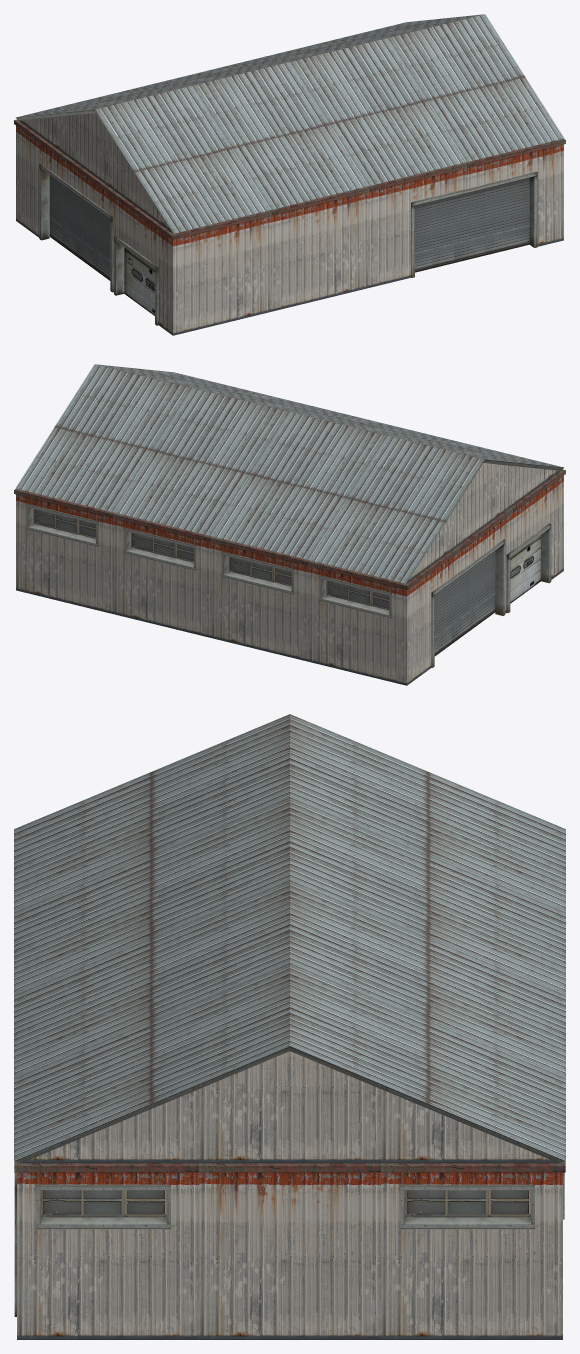
File: Hangar_v2_5.FBX
The picture shows the model from 3 angles, top to bottom: view 1: azimuth 30°, elevation 25°; view 2: azimuth 150°, elevation 25°; view 3: azimuth 270°, elevation 25°; orthographic projection. The views are drawn at different scales.
Parts seen in each view (by area): view 1: Hangar_v2_5; view 2: Hangar_v2_5; view 3: Hangar_v2_5.
Part boxes in pixels (x1,y1,x2,y2): Hangar_v2_5: [14, 14, 565, 335]; Hangar_v2_5: [14, 364, 565, 685]; Hangar_v2_5: [14, 714, 565, 1339].
Bounding box in the file's own units: 19.88 × 8.14 × 13.86.
